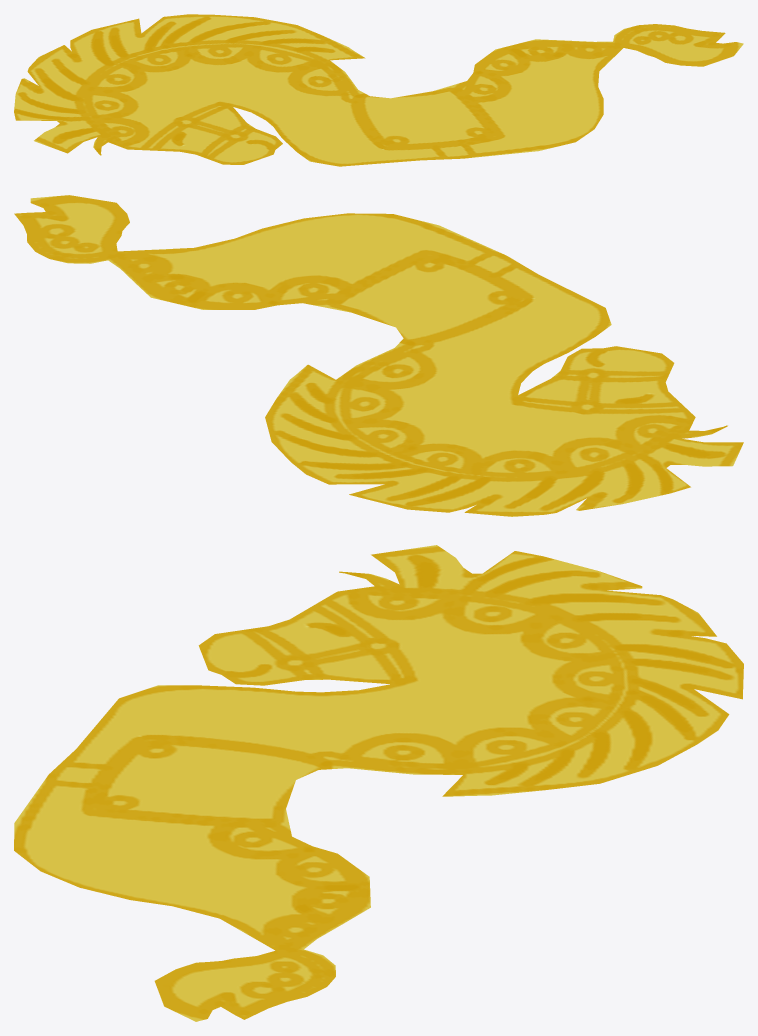
File: Kuda Kepang.fbx
3 views of the same model, one above another, from view 1: azimuth 30°, elevation 25°; view 2: azimuth 150°, elevation 25°; view 3: azimuth 270°, elevation 25° (orthographic). The views are drawn at different scales.
Visible parts, largest first — view 1: KudakepangEmas; view 2: KudakepangEmas; view 3: KudakepangEmas.
Part boxes in pixels (x1=…): KudakepangEmas: x1=14, y1=14, x2=743, y2=166; KudakepangEmas: x1=14, y1=195, x2=743, y2=516; KudakepangEmas: x1=14, y1=545, x2=743, y2=1021.
Size of the model in its own units: 273 by 2.88e-05 by 176.
Materials: 1 (1 with a texture image).
